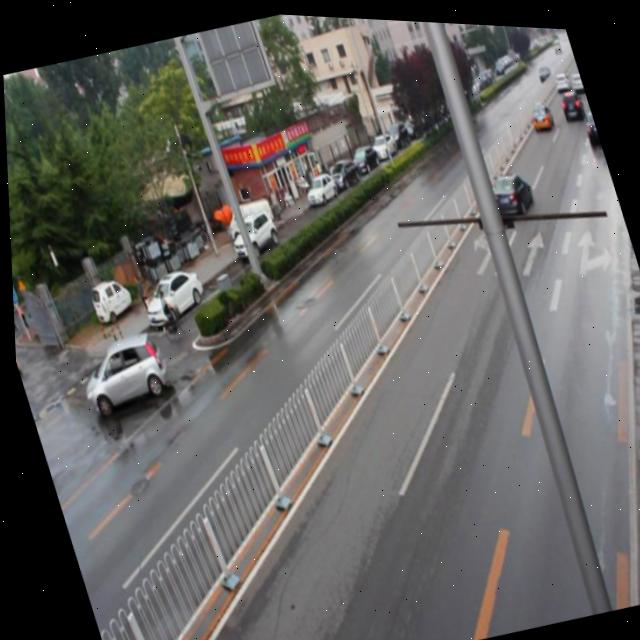car: (69, 324, 175, 423), (479, 158, 536, 217), (578, 101, 600, 141)
